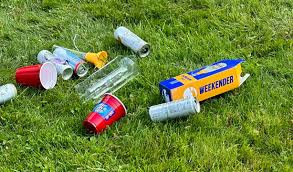cardboard: (155, 57, 256, 115)
glass: (73, 53, 142, 105)
metal: (143, 98, 214, 123), (112, 22, 154, 58), (35, 46, 71, 86), (46, 45, 88, 74), (0, 82, 24, 104)
plastic: (78, 95, 128, 140), (9, 58, 57, 96)
